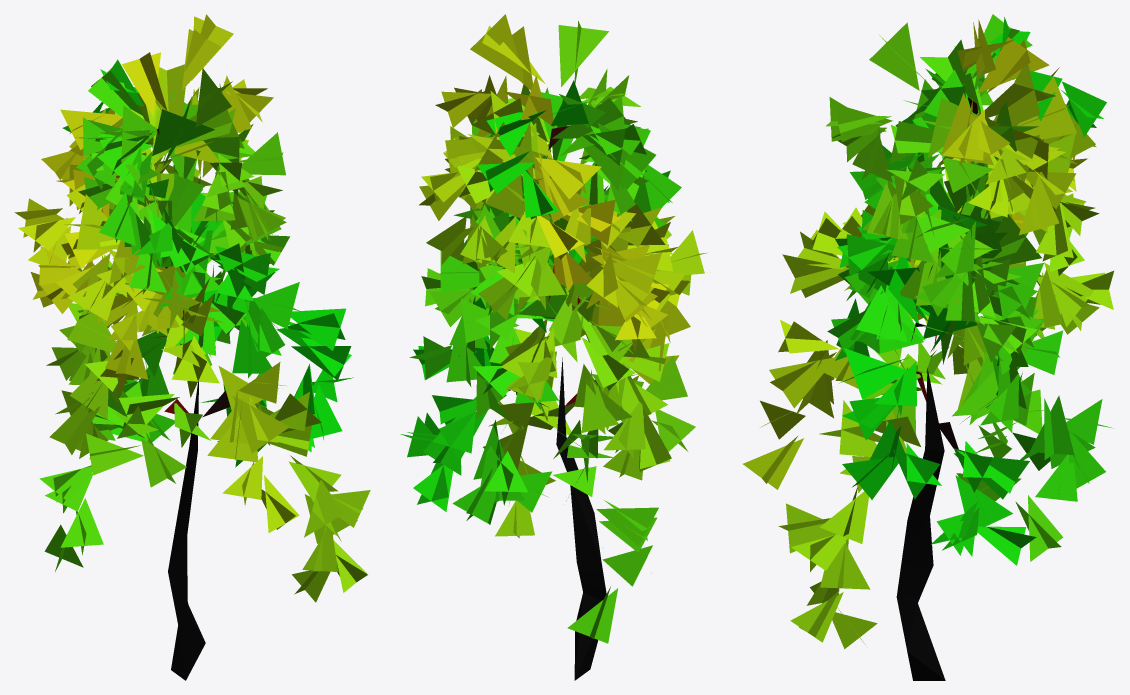
Rendered from birch 1 lod3.FBX.
The picture shows the model from 3 angles, left to right: view 1: azimuth 30°, elevation 25°; view 2: azimuth 150°, elevation 25°; view 3: azimuth 270°, elevation 25°; orthographic projection. The views are drawn at different scales.
Parts seen in each view (by area): view 1: birch1_LOD3; view 2: birch1_LOD3; view 3: birch1_LOD3.
Part boxes in pixels (bbox=[...]): birch1_LOD3: bbox=[14, 14, 370, 680]; birch1_LOD3: bbox=[400, 14, 707, 680]; birch1_LOD3: bbox=[743, 14, 1113, 680].
Bounding box in the file's own units: 75340 × 163074 × 80005.
